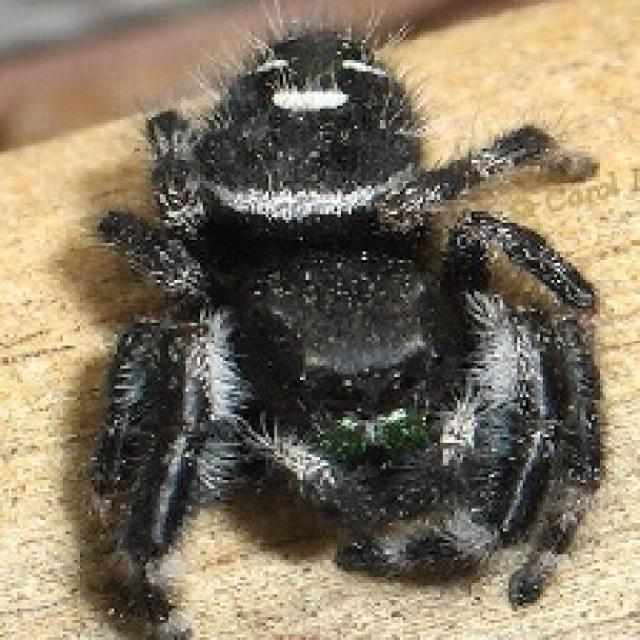Non venomous spider: (62, 34, 588, 576)
